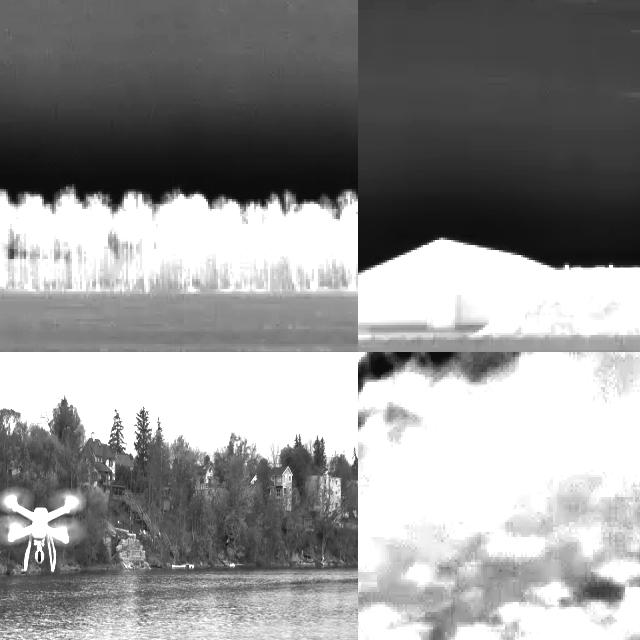0: (603, 594, 640, 629)
drone: (0, 486, 74, 576)
